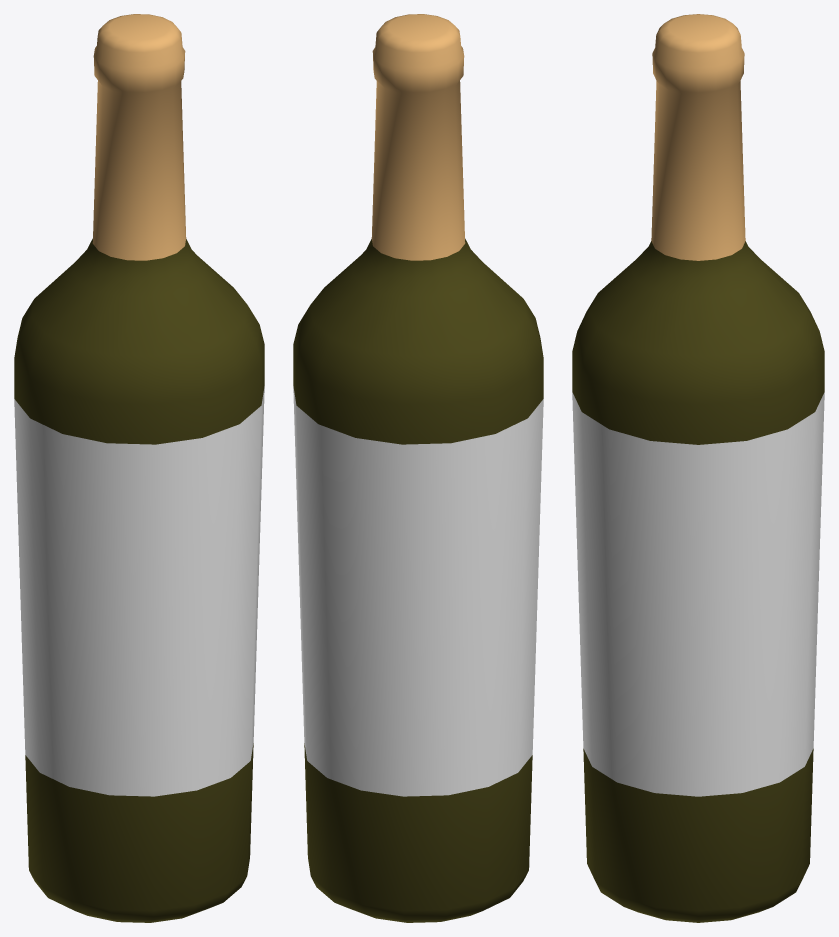
File: Bottle 5.fbx
3 views of the same model, side by side, from view 1: azimuth 30°, elevation 25°; view 2: azimuth 150°, elevation 25°; view 3: azimuth 270°, elevation 25° (orthographic).
Parts seen in each view (by area): view 1: Bottle 5.001; view 2: Bottle 5.001; view 3: Bottle 5.001.
Boxes of the visible parts, <box> form: Bottle 5.001: <box>14,14,264,922</box>; Bottle 5.001: <box>293,14,543,922</box>; Bottle 5.001: <box>572,14,824,922</box>.
Bounding box in the file's own units: 69.51 × 261 × 69.51.
